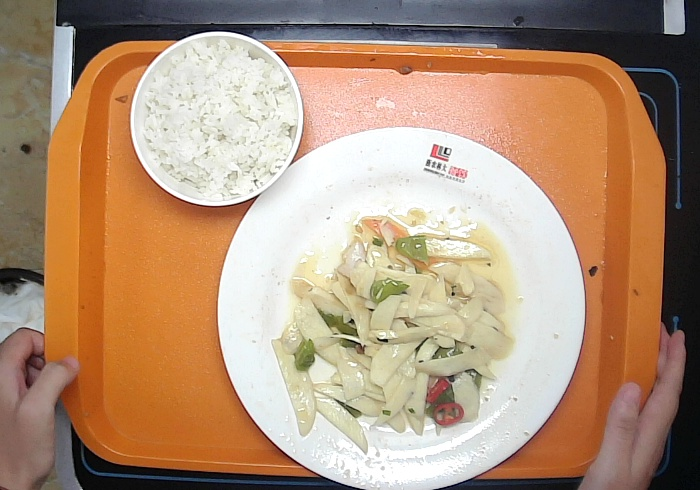ZNLD-Da_Yuan_Pan: (211, 123, 590, 489)
ZNLD-Fan_Wan: (127, 22, 310, 209)
